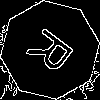R: (25, 25, 84, 82)
